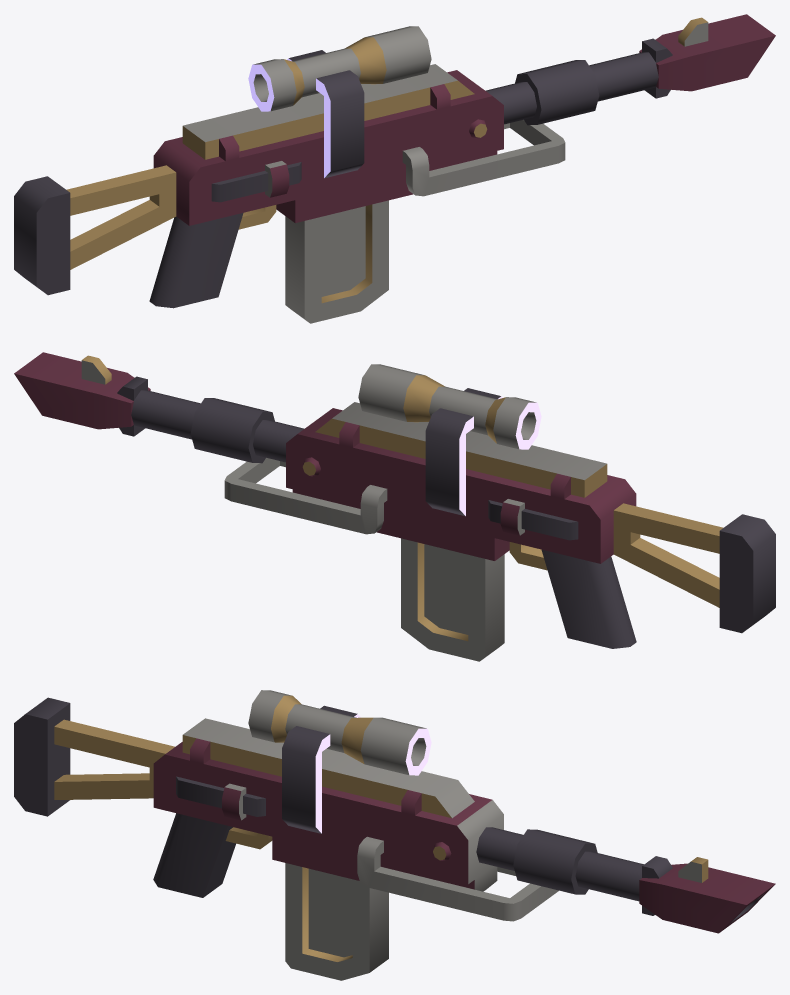
File: SM_ArchiveCarbine.glb
The picture shows the model from 3 angles, top to bottom: view 1: azimuth 30°, elevation 25°; view 2: azimuth 150°, elevation 25°; view 3: azimuth 330°, elevation 25°; orthographic projection.
Parts seen in each view (by area): view 1: SM_ArchiveCarbine; view 2: SM_ArchiveCarbine; view 3: SM_ArchiveCarbine.
Boxes of the visible parts, box(x1,y1,x2,y2) form: SM_ArchiveCarbine: box(14, 14, 775, 323); SM_ArchiveCarbine: box(14, 352, 775, 661); SM_ArchiveCarbine: box(14, 690, 775, 980).
Bounding box in the file's own units: 0.6288 × 0.2136 × 0.0816.
